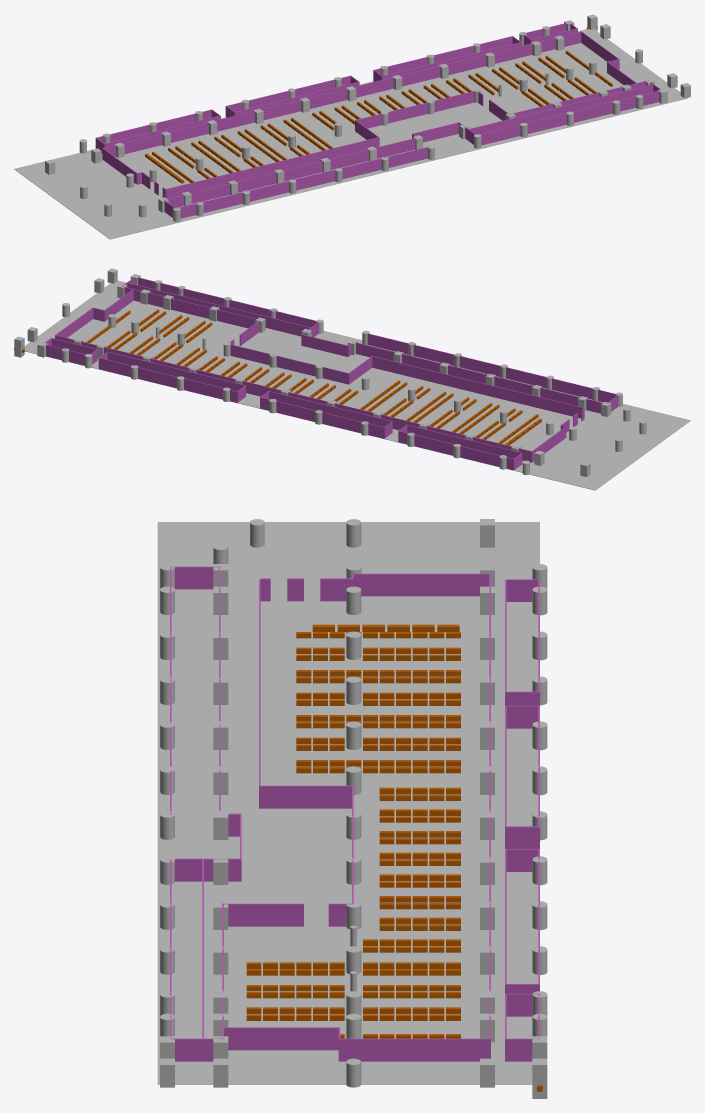
The model's file is TechBookFest17.glb.
3 renders of one model, top to bottom at view 1: azimuth 30°, elevation 25°; view 2: azimuth 150°, elevation 25°; view 3: azimuth 270°, elevation 25°, orthographic. The views are drawn at different scales.
Parts seen in each view (by area): view 1: ground, wall_12, wall_21, wall_19, wall_08, wall_14, wall_17, wall_06, wall_29, wall_33, wall_37, wall_04 (+6 smaller); view 2: ground, wall_21, wall_08, wall_19, wall_12, wall_29, wall_14, wall_33, wall_06, wall_04, wall_37, wall_17 (+9 smaller); view 3: ground, wall_01, wall_11, wall_03, wall_07, wall_05_02, wall_15, wall_13, wall_20, wall_12.
Boxes of the visible parts, x1,y1,x2,y2 form: ground: [14, 29, 687, 239]; wall_12: [103, 31, 581, 156]; wall_21: [176, 146, 430, 218]; wall_19: [164, 138, 415, 207]; wall_08: [165, 137, 379, 198]; wall_14: [480, 90, 660, 145]; wall_17: [469, 84, 653, 134]; wall_06: [356, 90, 476, 128]; wall_29: [374, 36, 512, 74]; wall_33: [227, 76, 350, 111]; wall_37: [97, 109, 211, 142]; wall_04: [510, 80, 648, 117]; ground: [24, 280, 690, 490]; wall_21: [365, 333, 618, 402]; wall_08: [372, 356, 583, 418]; wall_19: [353, 342, 605, 413]; wall_12: [55, 335, 531, 462]; wall_29: [98, 358, 236, 402]; wall_14: [135, 276, 318, 327]; wall_33: [260, 397, 383, 438]; wall_06: [228, 344, 348, 384]; wall_04: [122, 286, 258, 328]; wall_37: [398, 431, 513, 469]; wall_17: [127, 282, 310, 336]; ground: [157, 522, 539, 1084]; wall_01: [340, 1038, 490, 1061]; wall_11: [353, 573, 490, 596]; wall_03: [224, 1027, 340, 1050]; wall_07: [260, 785, 353, 808]; wall_05_02: [221, 903, 303, 926]; wall_15: [175, 858, 241, 881]; wall_13: [172, 1038, 224, 1061]; wall_20: [172, 566, 220, 589]; wall_12: [489, 574, 490, 1056].
Size of the model in its own units: 161 by 4.5 by 46.9.
